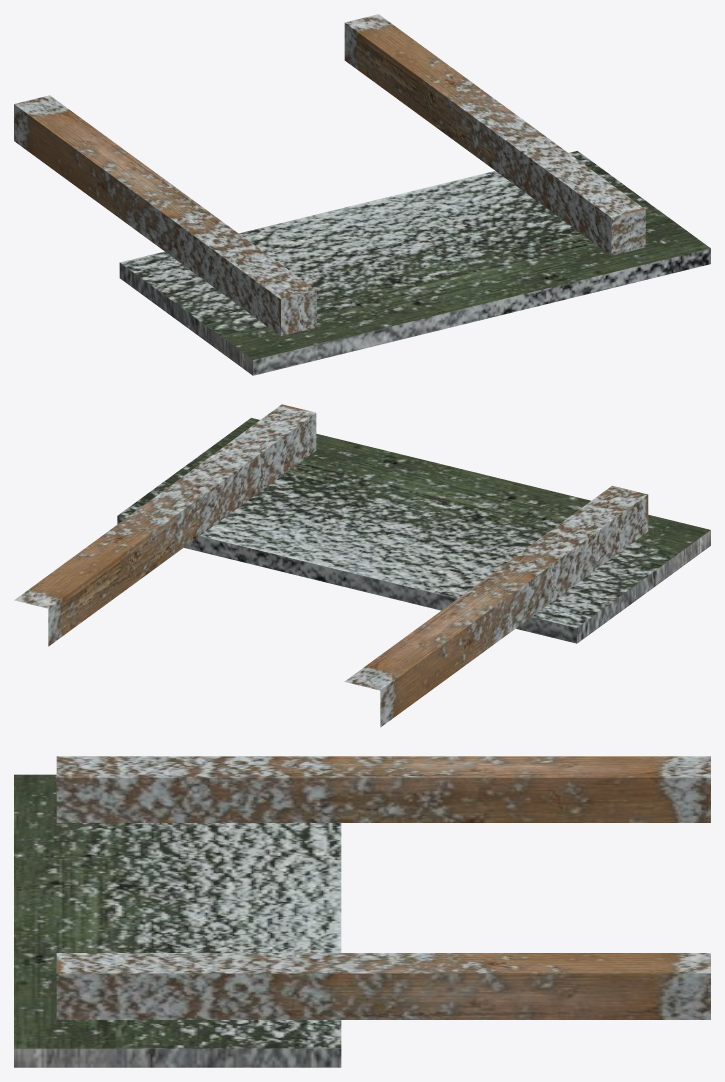
File: sign_minefieldpath_snow.glb
3 renders of one model, top to bottom at view 1: azimuth 30°, elevation 25°; view 2: azimuth 150°, elevation 25°; view 3: azimuth 270°, elevation 25°, orthographic. The views are drawn at different scales.
Bounding box in the file's own units: 23.78 × 2.66 × 25.56.
Materials: 2 (2 with a texture image).
